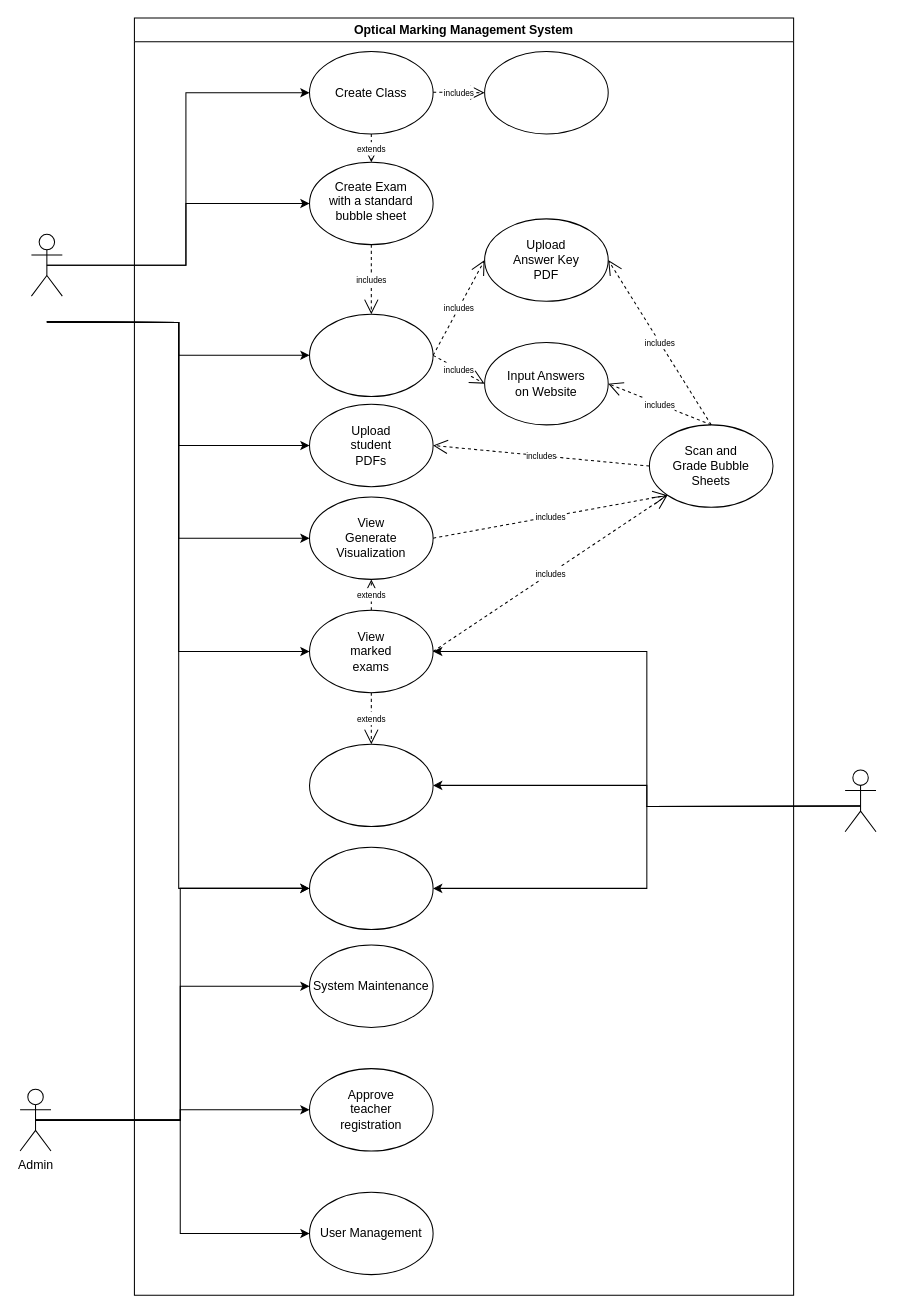
Some shapes in this 899 by 1313 pixel diagram are drawn without their labels. Here are the shapes that lost their labels. From the top down, the box of each, then its label:
(484, 50, 608, 134): Import student list
(30, 233, 62, 296): Instructor
(308, 313, 433, 397): Create Answer Key
(308, 743, 433, 827): Report incorrect marks
(844, 769, 876, 832): Student
(308, 846, 433, 930): Login/Logout
